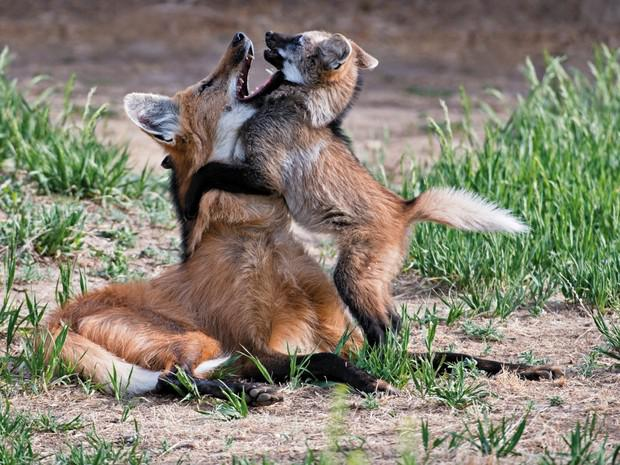LoboGuara: (27, 28, 361, 387), (247, 30, 520, 349)
